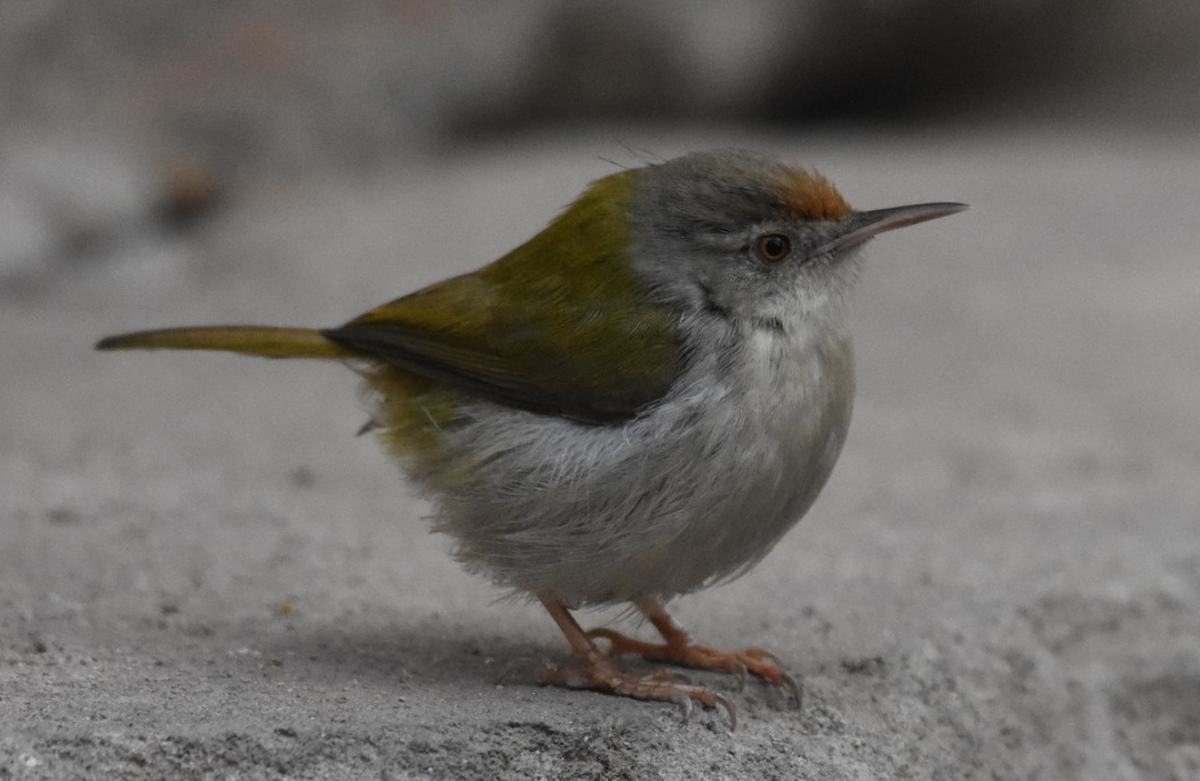tailorbird: (101, 112, 1007, 731)
